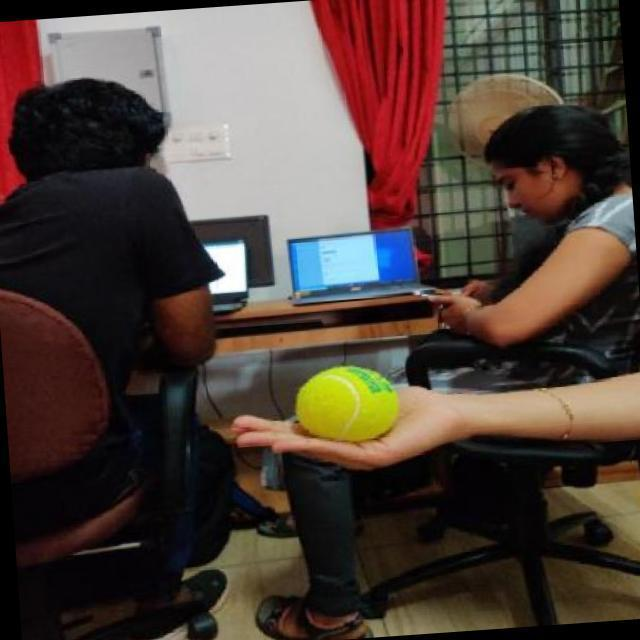-: (292, 364, 411, 453)
